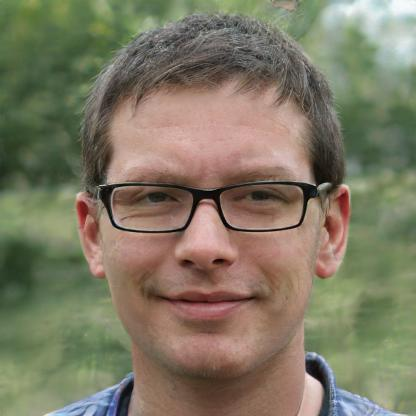glasses: (92, 176, 324, 236)
